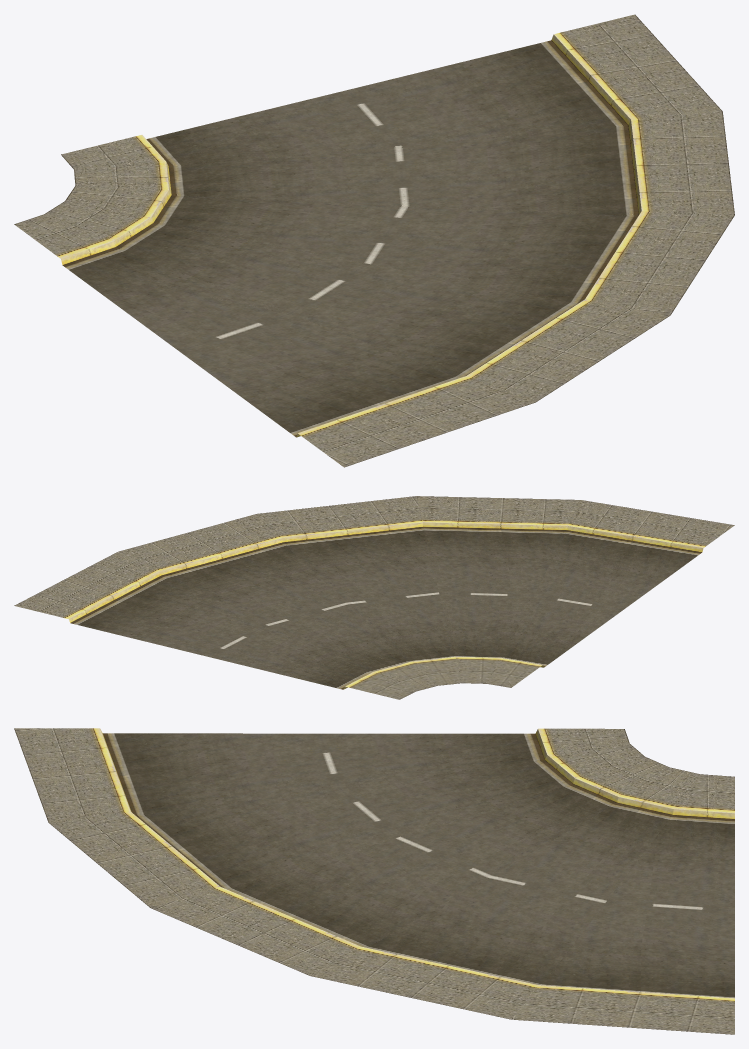
The model's file is Road3_Turn_D.fbx.
3 views of the same model, one above another, from view 1: azimuth 30°, elevation 25°; view 2: azimuth 150°, elevation 25°; view 3: azimuth 270°, elevation 25° (orthographic). The views are drawn at different scales.
Visible parts, largest first — view 1: Road_Turn_D; view 2: Road_Turn_D; view 3: Road_Turn_D.
Part boxes in pixels (bbox=[...]): Road_Turn_D: bbox=[14, 14, 734, 467]; Road_Turn_D: bbox=[14, 496, 734, 699]; Road_Turn_D: bbox=[14, 728, 734, 1034].
Bounding box in the file's own units: 2680 × 20.38 × 2663.
